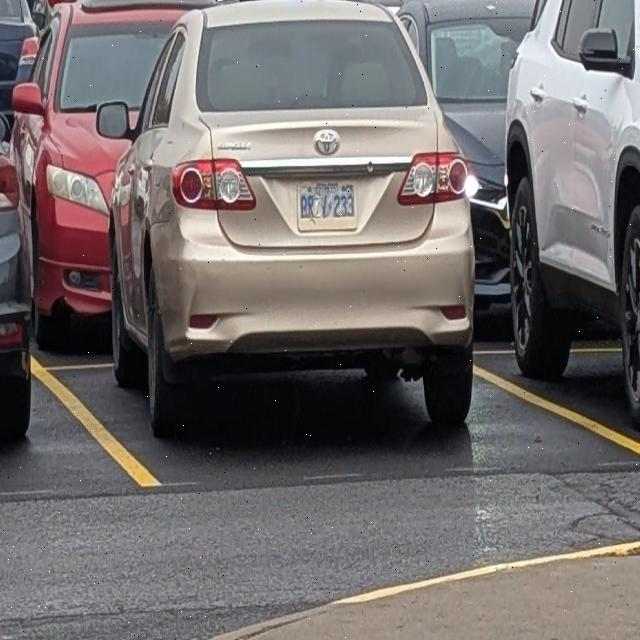plaque: (298, 182, 357, 231)
